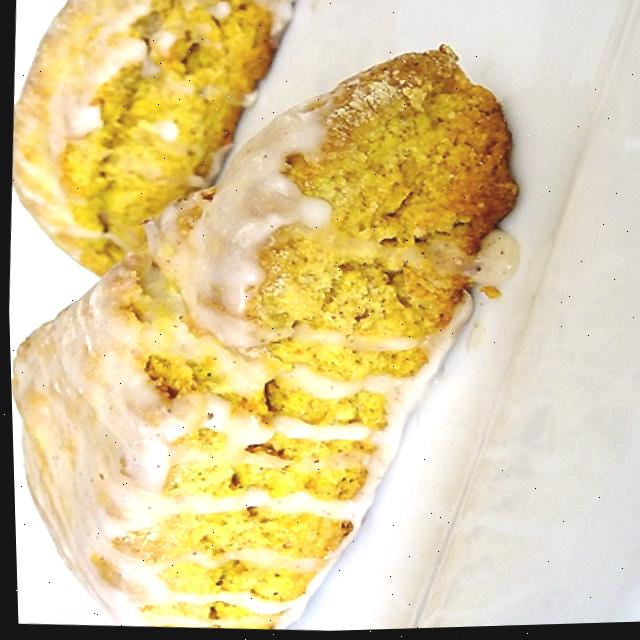面包点心: (0, 0, 570, 640)
